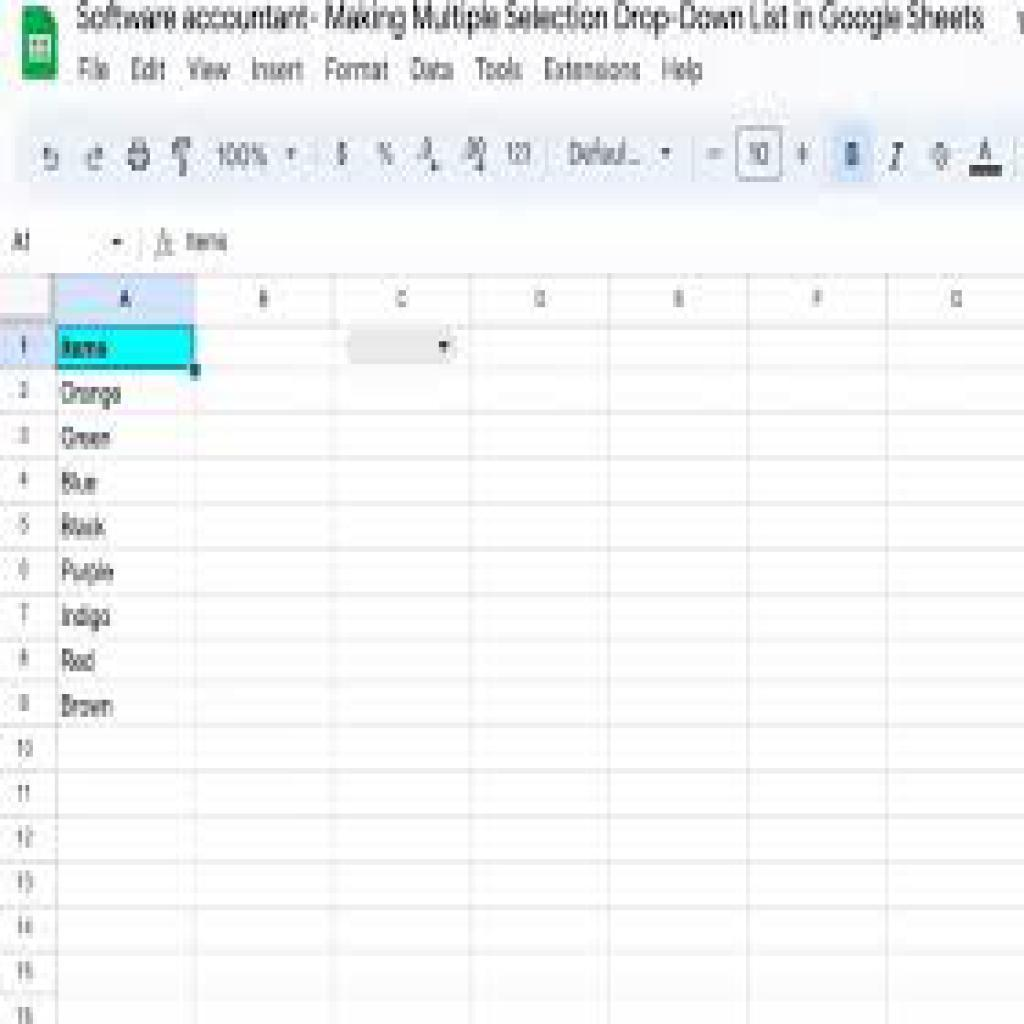table: (1, 275, 1024, 1024)
